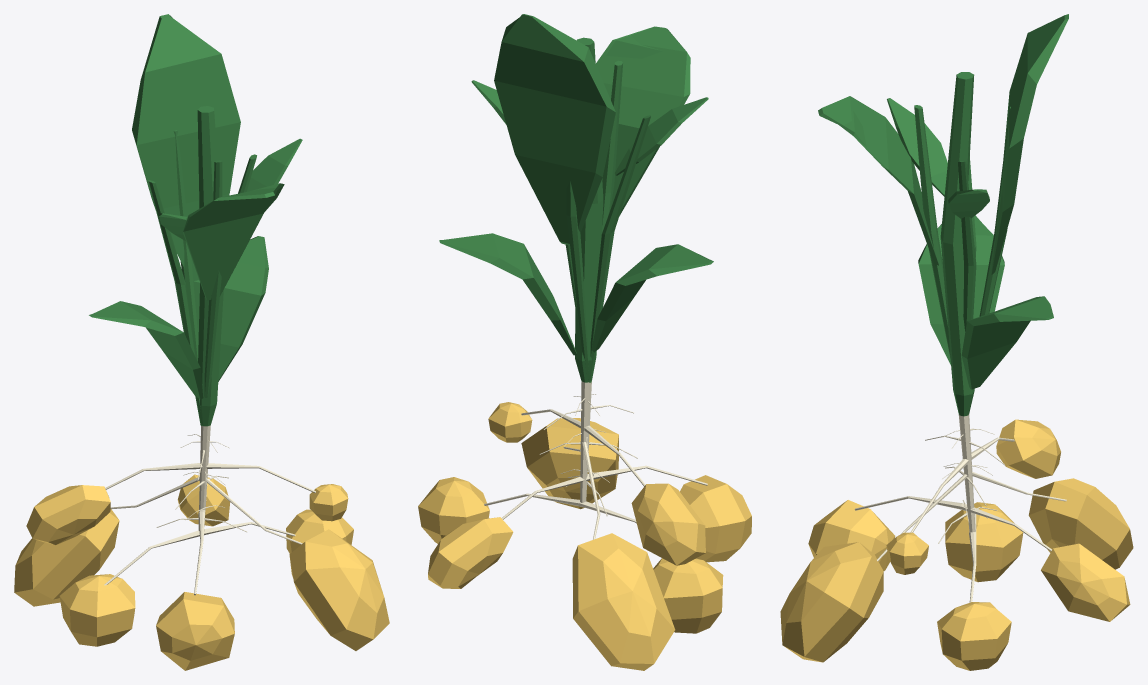
File: potatoe.fbx
3 renders of one model, left to right at view 1: azimuth 30°, elevation 25°; view 2: azimuth 150°, elevation 25°; view 3: azimuth 270°, elevation 25°, orthographic. The views are drawn at different scales.
Parts seen in each view (by area): view 1: potatoe; view 2: potatoe; view 3: potatoe.
Boxes of the visible parts, x1=… form: potatoe: x1=14, y1=14, x2=389, y2=670; potatoe: x1=418, y1=14, x2=751, y2=670; potatoe: x1=780, y1=14, x2=1133, y2=670.
Bounding box in the file's own units: 46.92 × 88.88 × 46.11.
